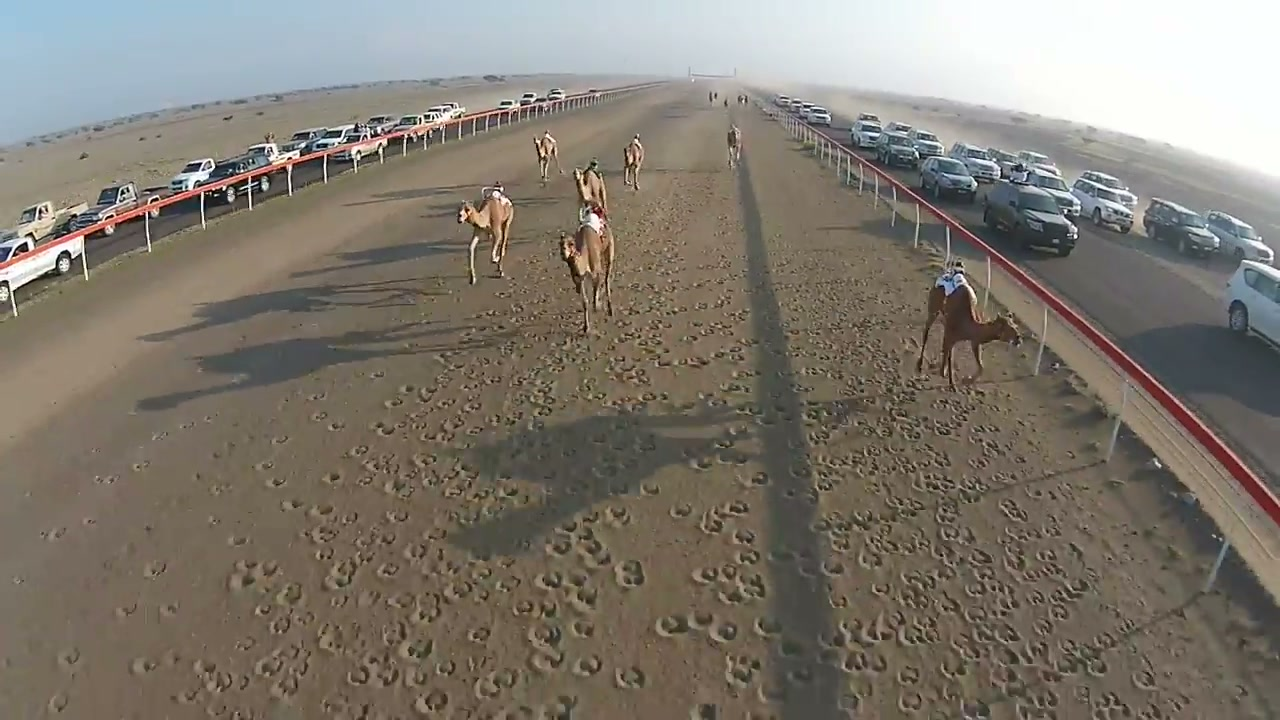animal_footprint: (4, 138, 1268, 719), (766, 227, 1190, 716), (614, 561, 644, 589), (654, 615, 691, 637), (615, 666, 646, 689), (490, 248, 500, 264)
